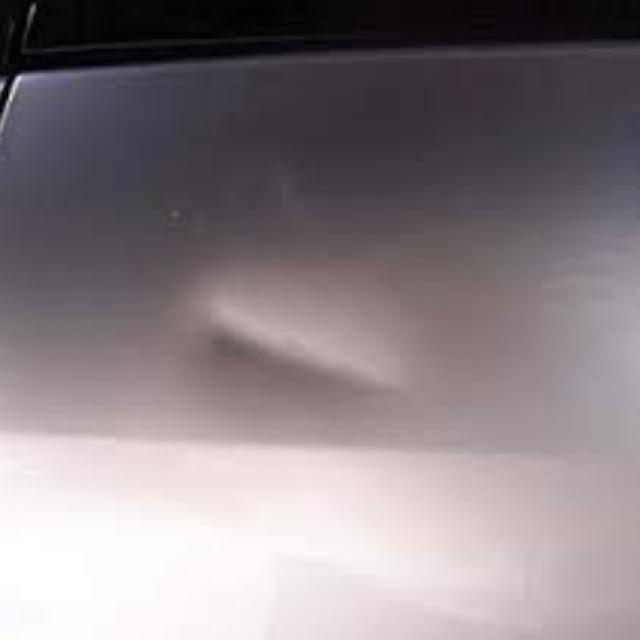dents: (163, 276, 395, 413)
